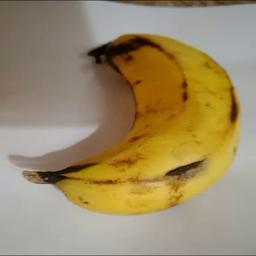Banana Semifresh: (27, 40, 240, 215)
